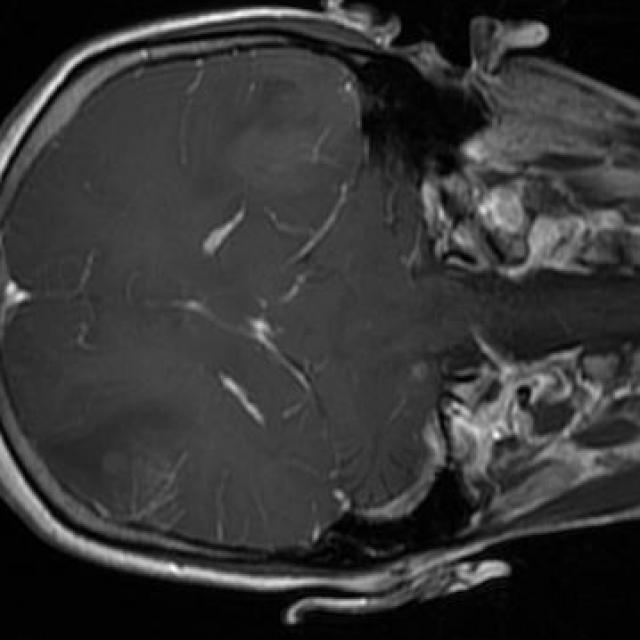glioma: (39, 406, 194, 519)
